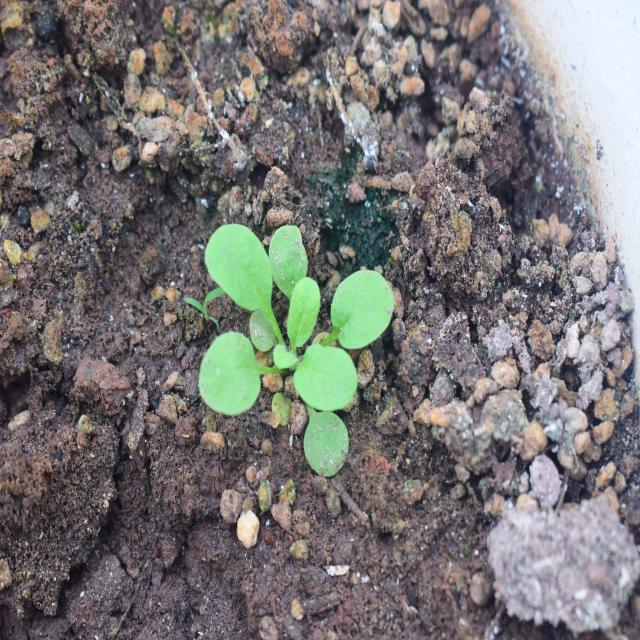Shepherd_Purse: (205, 208, 387, 466)
